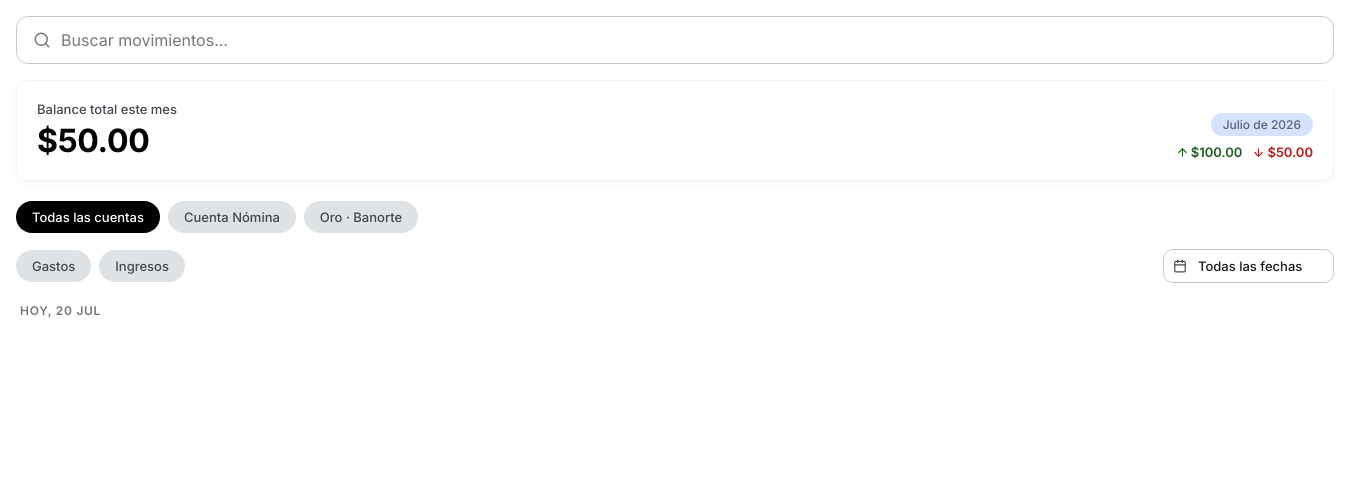
Scenario: HistorialView › toggles a tipo chip off when clicked again
Click the button with test id "historial-chip-tipo-ingresos": [142, 266] box [99, 250, 185, 282]
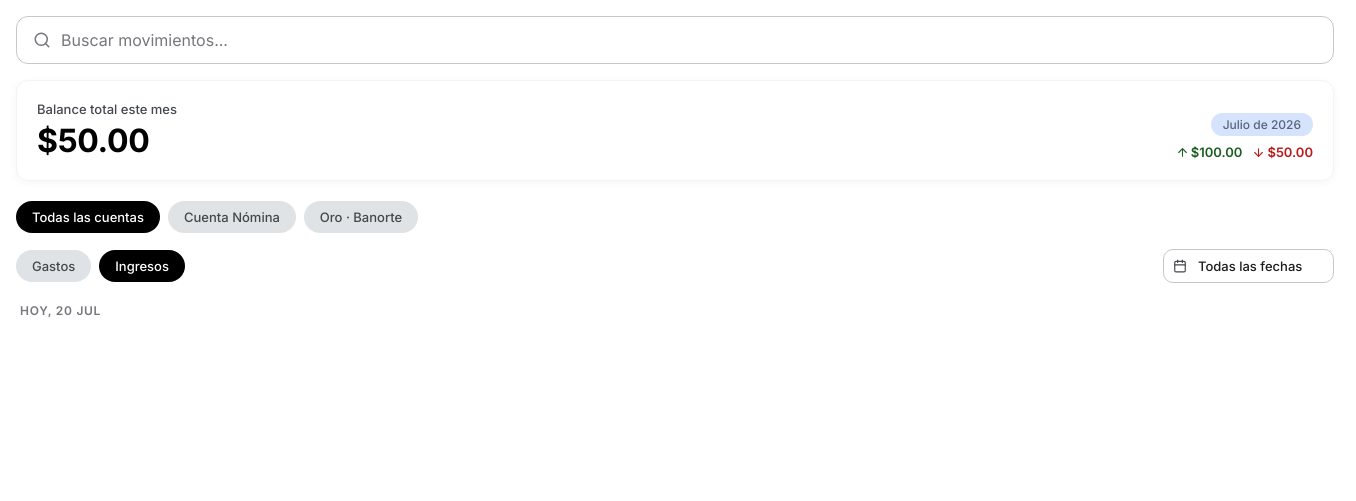
Click the button with test id "historial-chip-tipo-ingresos": [142, 266] box [99, 250, 185, 282]
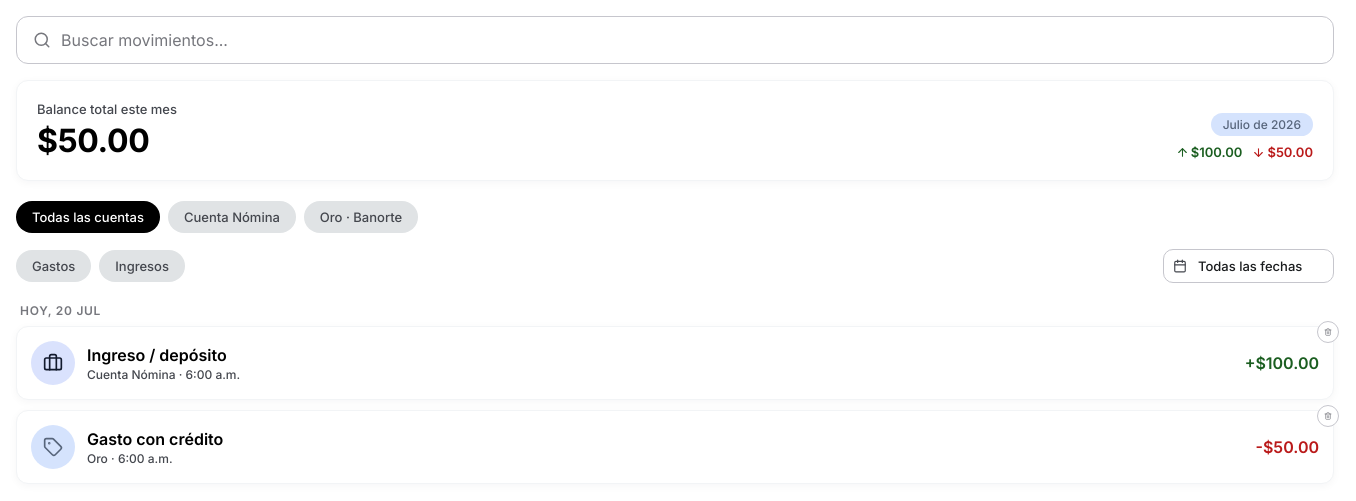
Result: the text "Ingreso / depósito" is shown at [87, 344, 227, 364]
Result: the text "Gasto con crédito" is shown at [87, 428, 223, 448]
